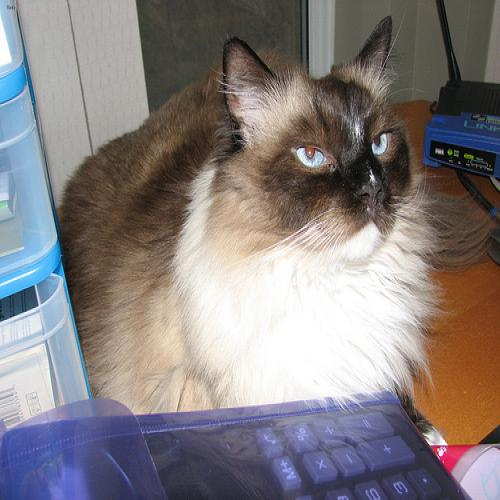ragdoll: (218, 17, 416, 296)
